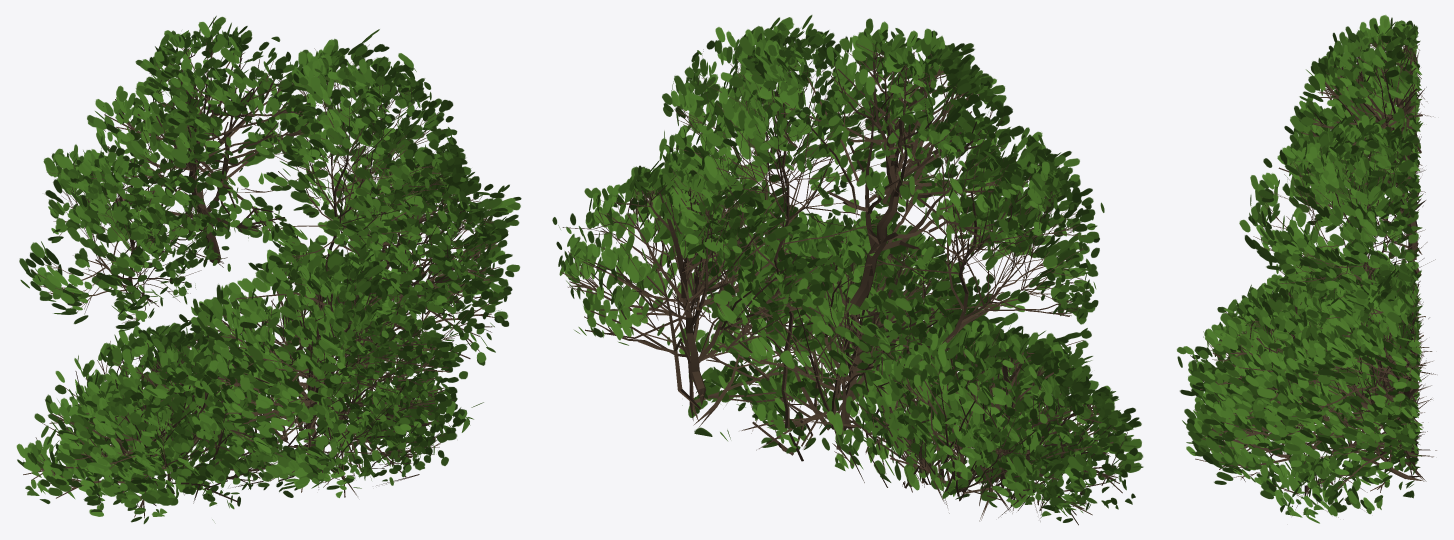
3 renders of one model, left to right at view 1: azimuth 30°, elevation 25°; view 2: azimuth 150°, elevation 25°; view 3: azimuth 270°, elevation 25°, orthographic. The views are drawn at different scales.
Visible parts, largest first — view 1: oak 01.001_trunk_Mat.001_0.310; view 2: oak 01.001_trunk_Mat.001_0.310; view 3: oak 01.001_trunk_Mat.001_0.310.
Boxes of the visible parts, <box> form: oak 01.001_trunk_Mat.001_0.310: <box>16,15,521,523</box>; oak 01.001_trunk_Mat.001_0.310: <box>552,15,1143,525</box>; oak 01.001_trunk_Mat.001_0.310: <box>1176,15,1436,523</box>.
Size of the model in its own units: 5.65 by 4.57 by 2.62.
2 materials, 1 textured.
